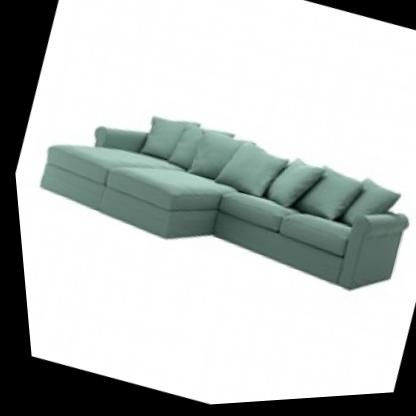Sofa: (5, 35, 416, 345)
